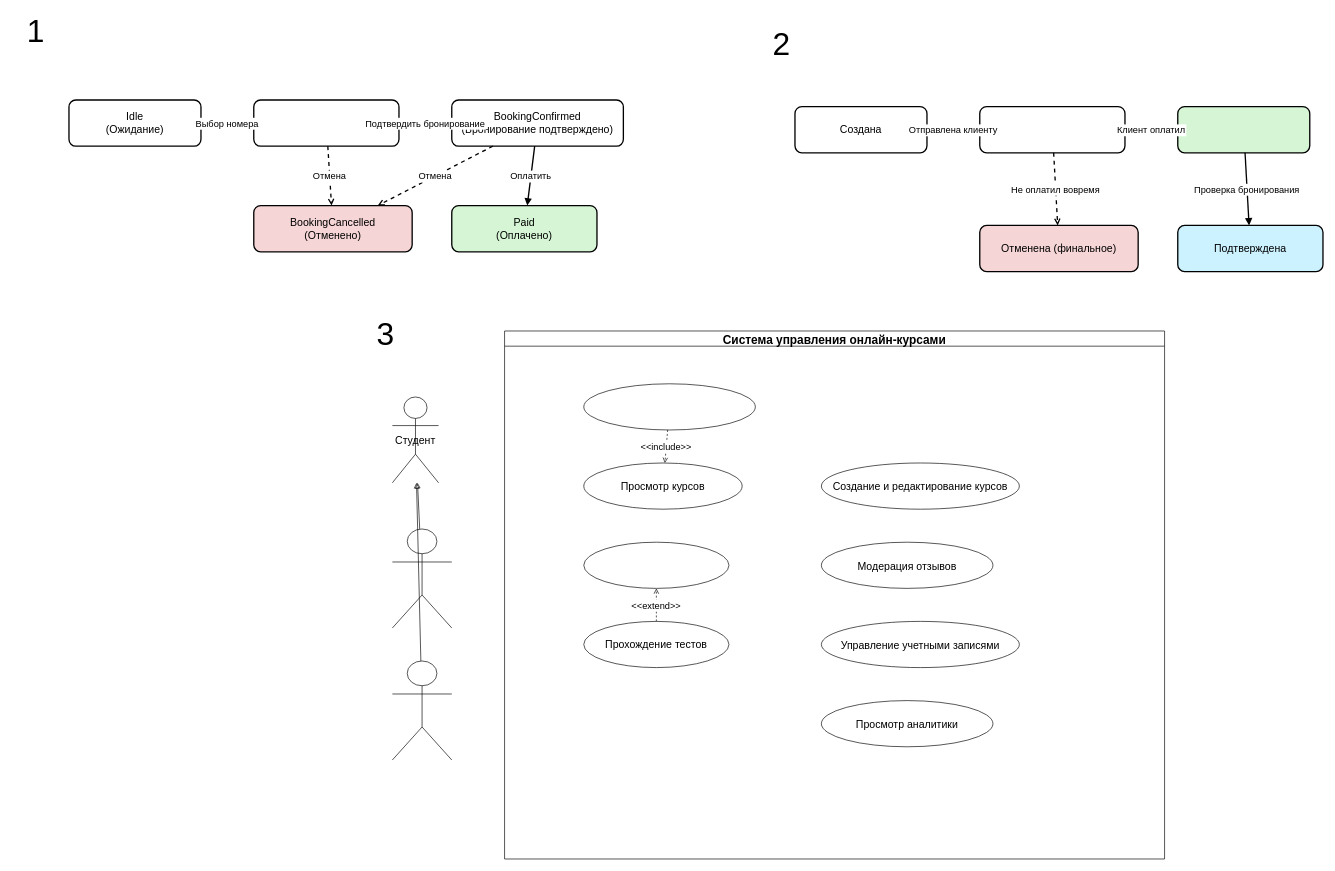
Image size: 1335x871. Some labels were removed from this diagram. The centre of each missing label's shape, as x and y in pixels:
RoomSelected (Номер выбран): [326,123]
Администратор: [422,710]
Запись на курс: [656,565]
Ожидает оплаты: [1052,129]
Оплачена: [1243,129]
Преподаватель: [422,578]
Регистрация и авторизация: [669,406]
